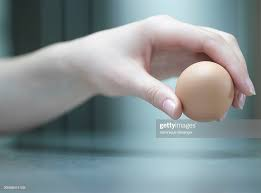egg: (174, 60, 234, 123)
